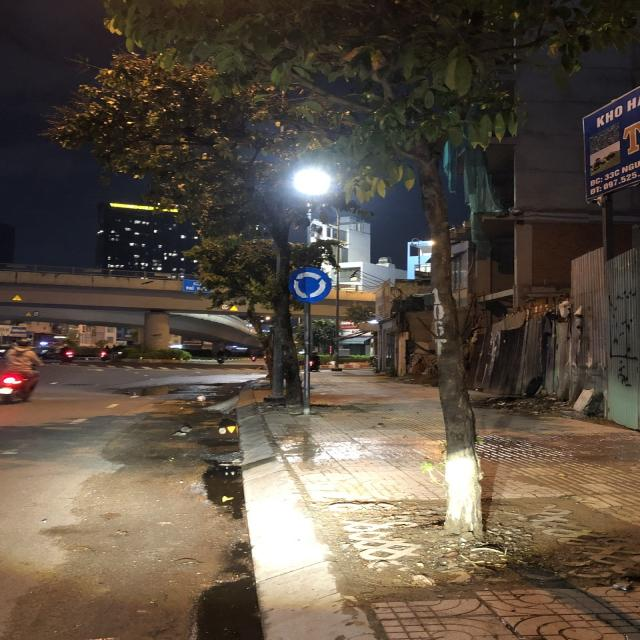Bien bao noi giao nhau chay theo vong xuyen: (287, 264, 335, 305)
